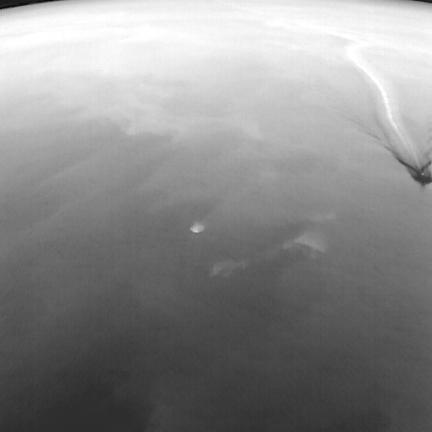flukeprints: (190, 223, 204, 231)
